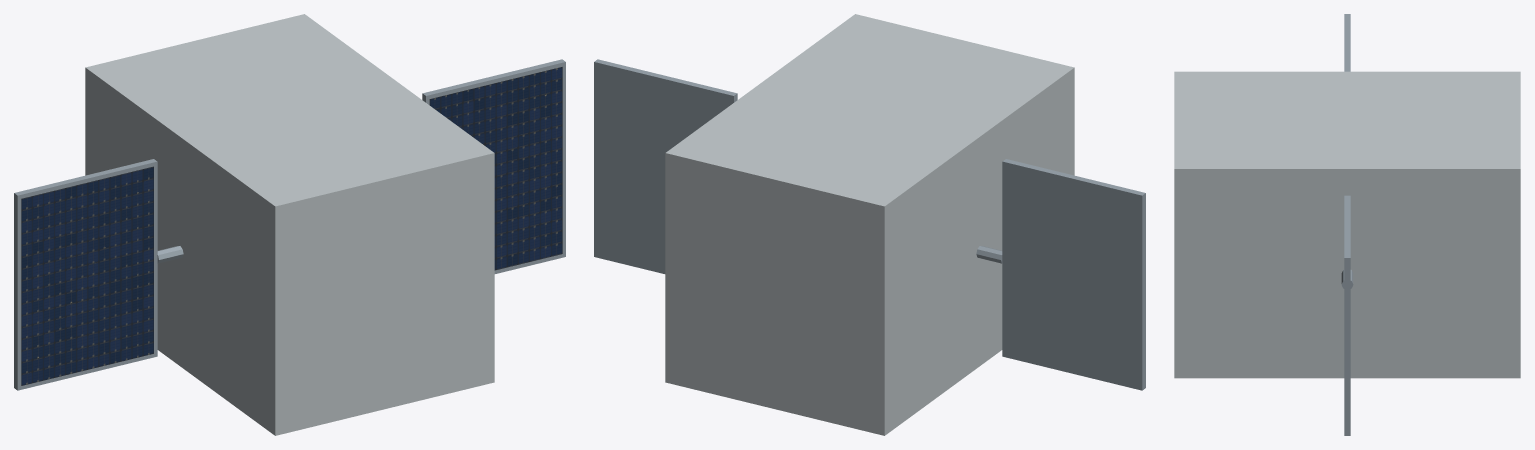
Rendered from ref-cx-6-41899.glb.
3 renders of one model, left to right at view 1: azimuth 30°, elevation 25°; view 2: azimuth 150°, elevation 25°; view 3: azimuth 270°, elevation 25°, orthographic. The views are drawn at different scales.
Visible parts, largest first — view 1: Spacecraft body, Photovoltaic laminates (×2), Array frame (×2); view 2: Spacecraft body, Array frame (×2); view 3: Spacecraft body, Array frame (×2).
Part boxes in pixels (box(x1,y1,x2,y2)): Spacecraft body: box(85, 14, 494, 435); Photovoltaic laminates (×2): box(21, 67, 562, 385); Array frame (×2): box(14, 59, 565, 390); Spacecraft body: box(665, 14, 1074, 435); Array frame (×2): box(594, 59, 1145, 390); Spacecraft body: box(1174, 71, 1520, 378); Array frame (×2): box(1344, 14, 1350, 435).
Bounding box in the file's own units: 1 × 0.4 × 0.6.
3 materials, 1 textured.
